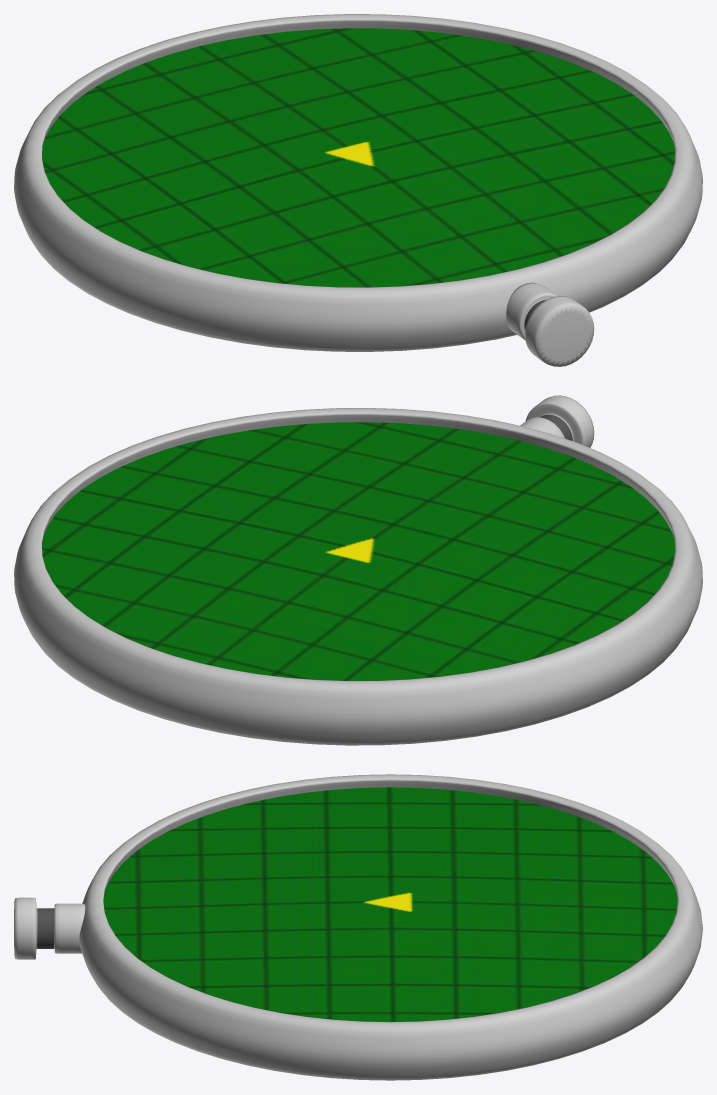
The model's file is Radar.obj.
3 renders of one model, top to bottom at view 1: azimuth 30°, elevation 25°; view 2: azimuth 150°, elevation 25°; view 3: azimuth 270°, elevation 25°, orthographic. The views are drawn at different scales.
Parts seen in each view (by area): view 1: Radar_Cylinder; view 2: Radar_Cylinder; view 3: Radar_Cylinder.
Boxes of the visible parts, <box> form: Radar_Cylinder: <box>14,14,702,366</box>; Radar_Cylinder: <box>14,395,702,745</box>; Radar_Cylinder: <box>14,774,702,1080</box>.
Size of the model in its own units: 0.2445 by 0.0249 by 0.2696.
Materials: 3 (1 with a texture image).
